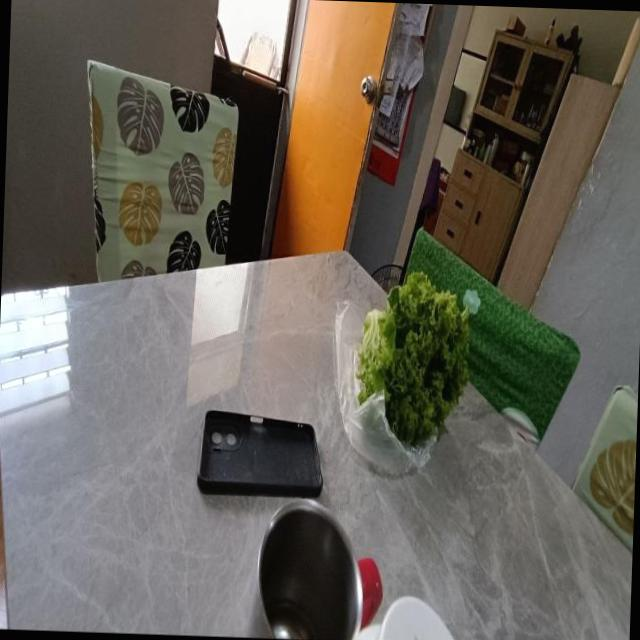Lettuce-Ready-to-Harvest: (358, 272, 472, 455)
